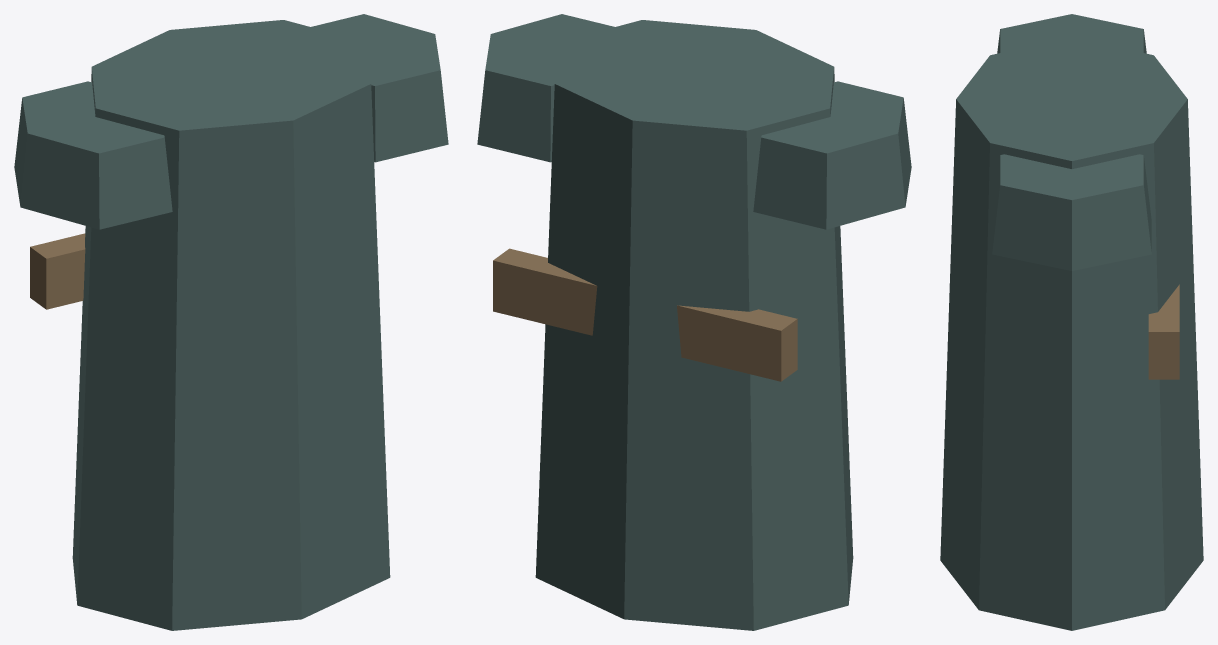
The model's file is Pawn_ArmorRobe.fbx.
3 views of the same model, side by side, from view 1: azimuth 30°, elevation 25°; view 2: azimuth 150°, elevation 25°; view 3: azimuth 270°, elevation 25° (orthographic). The views are drawn at different scales.
Parts seen in each view (by area): view 1: Pawn_ArmorRobe; view 2: Pawn_ArmorRobe; view 3: Pawn_ArmorRobe.
Boxes of the visible parts, x1,y1,x2,y2 form: Pawn_ArmorRobe: [14, 14, 448, 630]; Pawn_ArmorRobe: [477, 14, 911, 630]; Pawn_ArmorRobe: [940, 14, 1203, 630].
Bounding box in the file's own units: 1.04 × 1.16 × 0.6.
